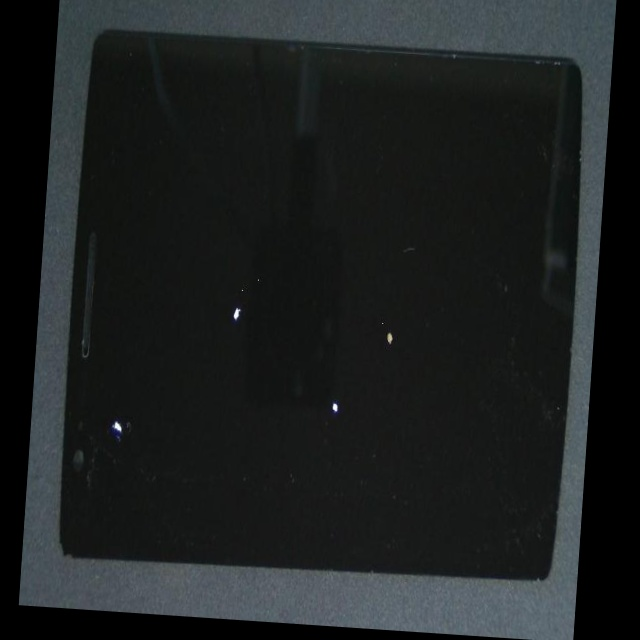stain: (138, 158, 489, 635), (222, 80, 582, 486), (117, 132, 319, 496), (53, 211, 154, 612)
